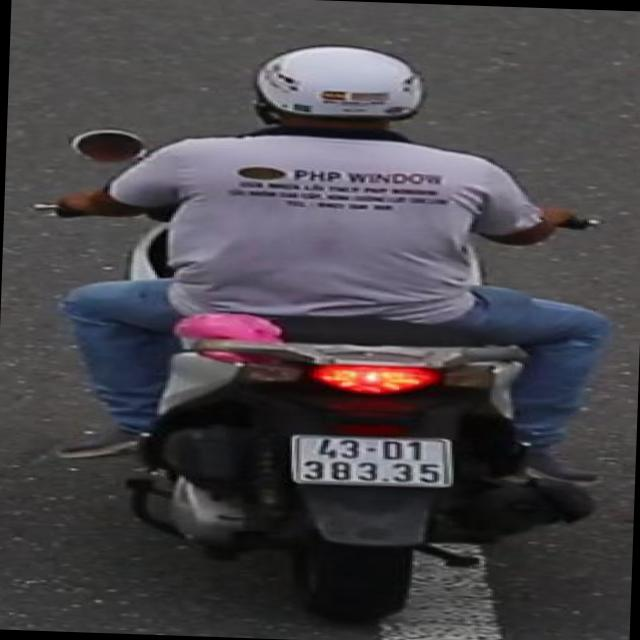LP: (280, 424, 464, 494)
helmet: (237, 34, 456, 152)
